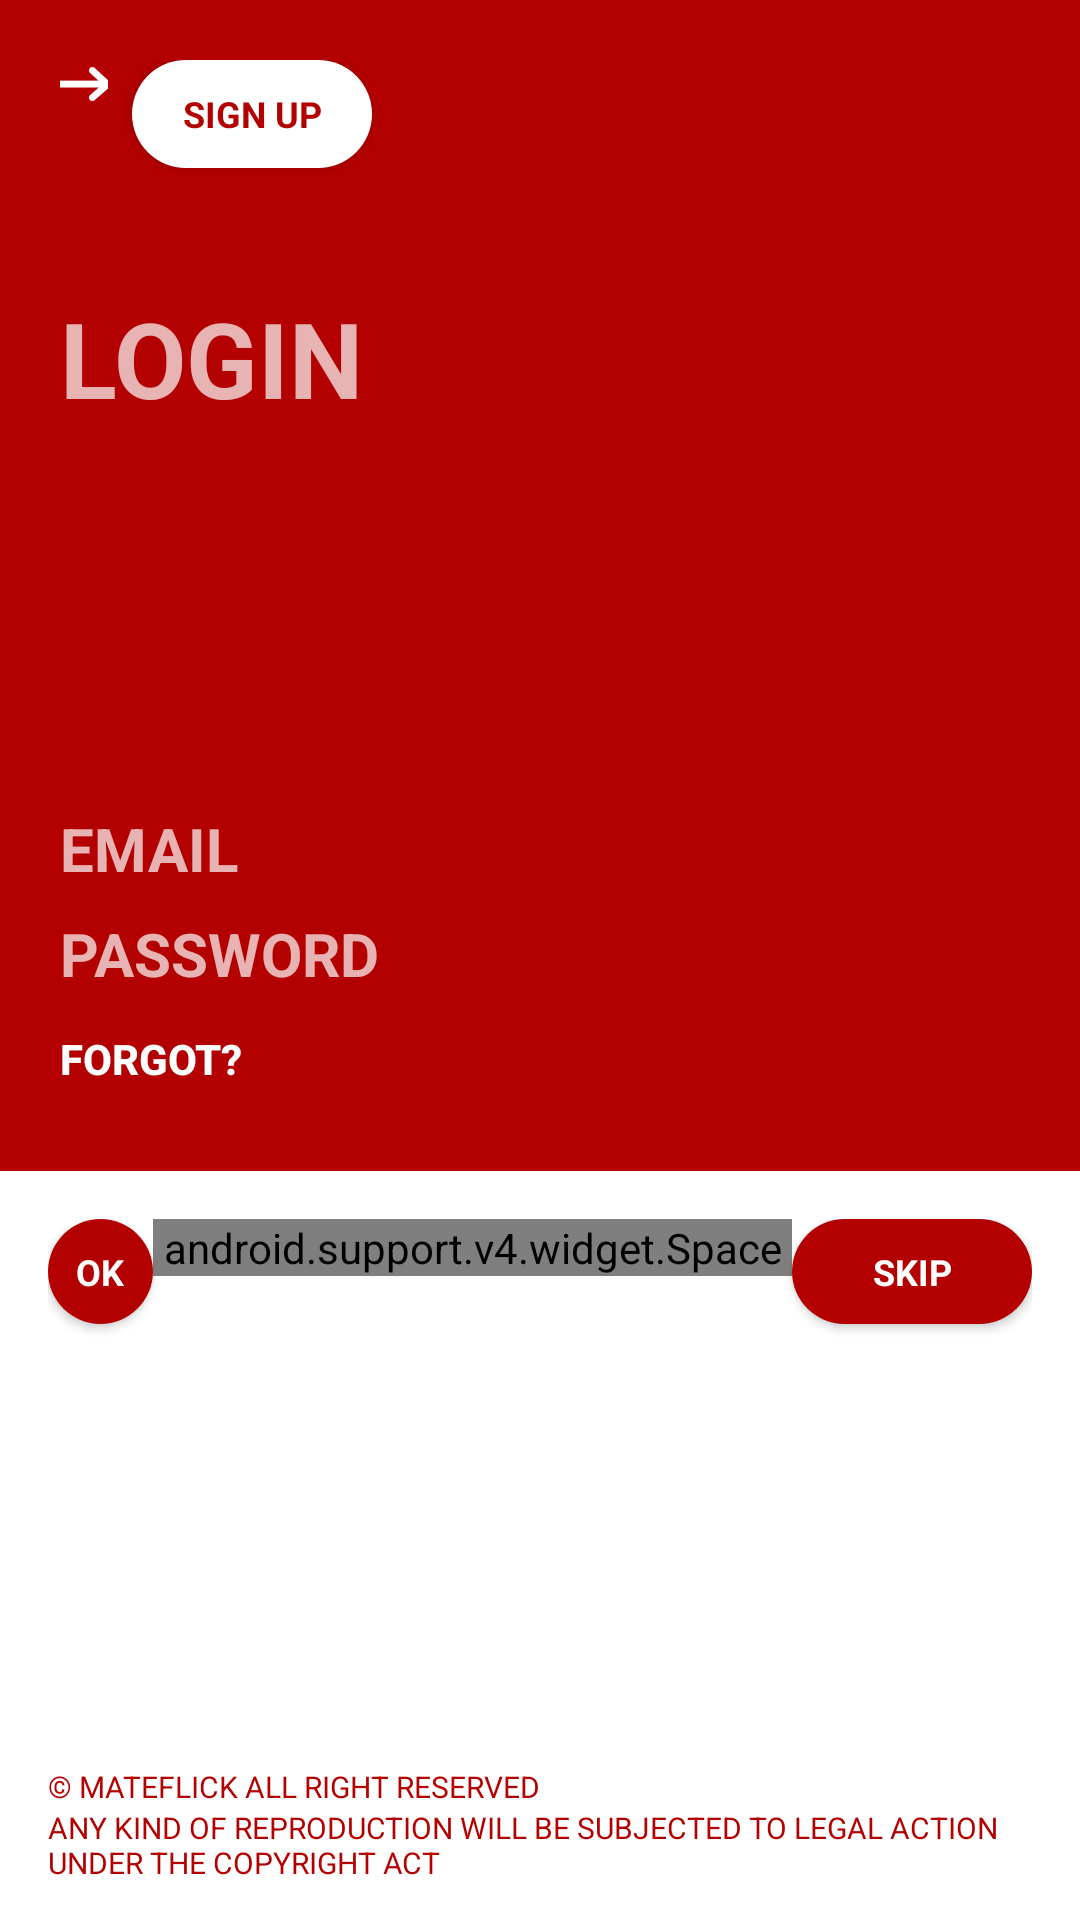

Where icons sit on this 1080*1920 app screen, as [x1, y1, x2, y2]:
arrow right: [60, 67, 108, 101]
